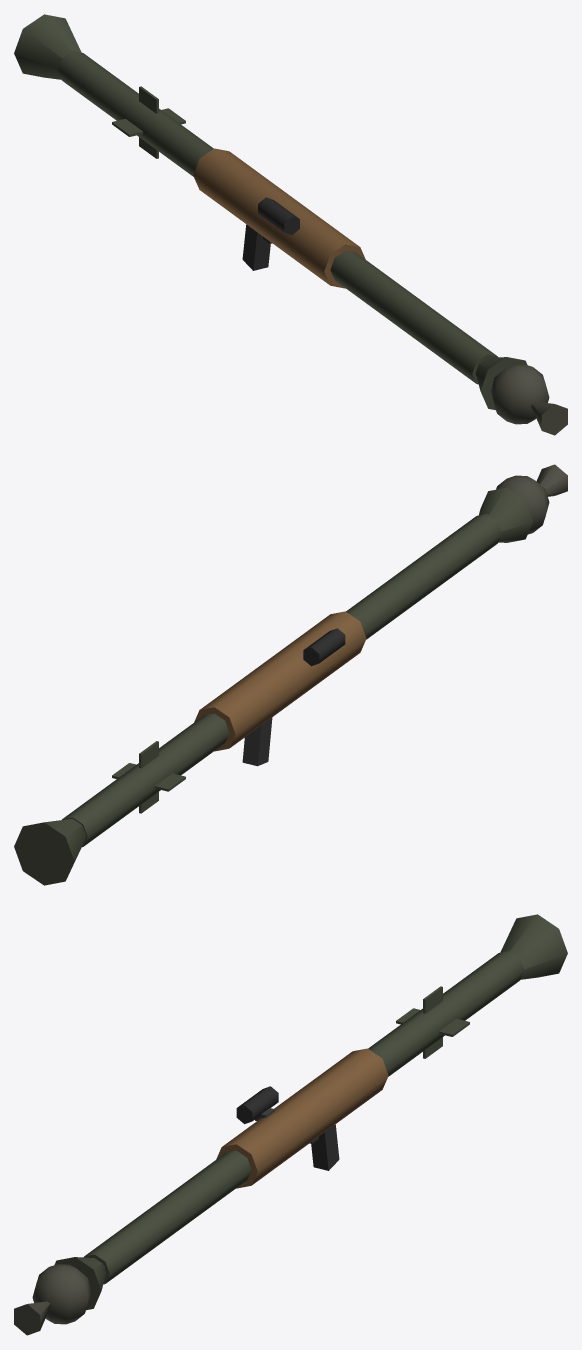
Rendered from rpg7.glb.
3 views of the same model, one above another, from view 1: azimuth 30°, elevation 25°; view 2: azimuth 150°, elevation 25°; view 3: azimuth 330°, elevation 25° (orthographic).
Parts seen in each view (by area): view 1: Mesh_LaunchTube, Mesh_HeatShield, Mesh_RearVenturi, Mesh_WarheadBody, Mesh_FlaredMuzzle, Mesh_PistolGrip, Mesh_WarheadTip, Mesh_OpticalSight; view 2: Mesh_LaunchTube, Mesh_HeatShield, Mesh_RearVenturi, Mesh_FlaredMuzzle, Mesh_WarheadBody, Mesh_PistolGrip, Mesh_OpticalSight, Mesh_WarheadTip; view 3: Mesh_LaunchTube, Mesh_HeatShield, Mesh_RearVenturi, Mesh_WarheadBody, Mesh_FlaredMuzzle, Mesh_PistolGrip, Mesh_WarheadTip, Mesh_OpticalSight.
Part boxes in pixels (left/top/right/bottom): Mesh_LaunchTube: left=57, top=51, right=498, bottom=384; Mesh_HeatShield: left=193, top=148, right=365, bottom=288; Mesh_RearVenturi: left=14, top=14, right=81, bottom=79; Mesh_WarheadBody: left=490, top=364, right=549, bottom=424; Mesh_FlaredMuzzle: left=475, top=357, right=527, bottom=410; Mesh_PistolGrip: left=242, top=224, right=270, bottom=270; Mesh_WarheadTip: left=531, top=401, right=567, bottom=435; Mesh_OpticalSight: left=258, top=197, right=299, bottom=234; Mesh_LaunchTube: left=62, top=514, right=502, bottom=847; Mesh_HeatShield: left=194, top=611, right=366, bottom=751; Mesh_RearVenturi: left=14, top=818, right=86, bottom=885; Mesh_FlaredMuzzle: left=479, top=487, right=533, bottom=542; Mesh_WarheadBody: left=496, top=475, right=549, bottom=534; Mesh_PistolGrip: left=242, top=717, right=272, bottom=766; Mesh_OpticalSight: left=303, top=628, right=345, bottom=666; Mesh_WarheadTip: left=536, top=464, right=567, bottom=496; Mesh_LaunchTube: left=83, top=951, right=524, bottom=1284; Mesh_HeatShield: left=216, top=1048, right=388, bottom=1188; Mesh_RearVenturi: left=500, top=914, right=567, bottom=979; Mesh_WarheadBody: left=32, top=1264, right=91, bottom=1324; Mesh_FlaredMuzzle: left=54, top=1257, right=106, bottom=1310; Mesh_PistolGrip: left=311, top=1124, right=339, bottom=1170; Mesh_WarheadTip: left=14, top=1301, right=50, bottom=1335; Mesh_OpticalSight: left=236, top=1086, right=278, bottom=1124.
Bounding box in the file's own units: 0.0804 × 0.1236 × 1.17.
